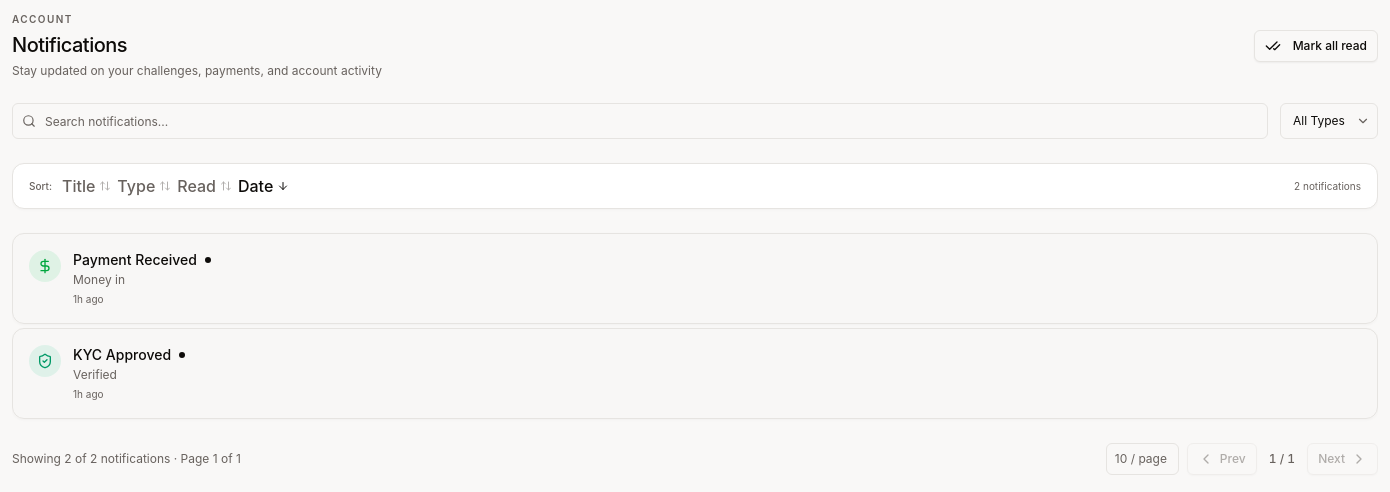
it: Notifications Page › Search › filters by title
Type "payment" into the field with placeholder "Search notifications...". click: (640, 121)
box: [12, 103, 1268, 139]
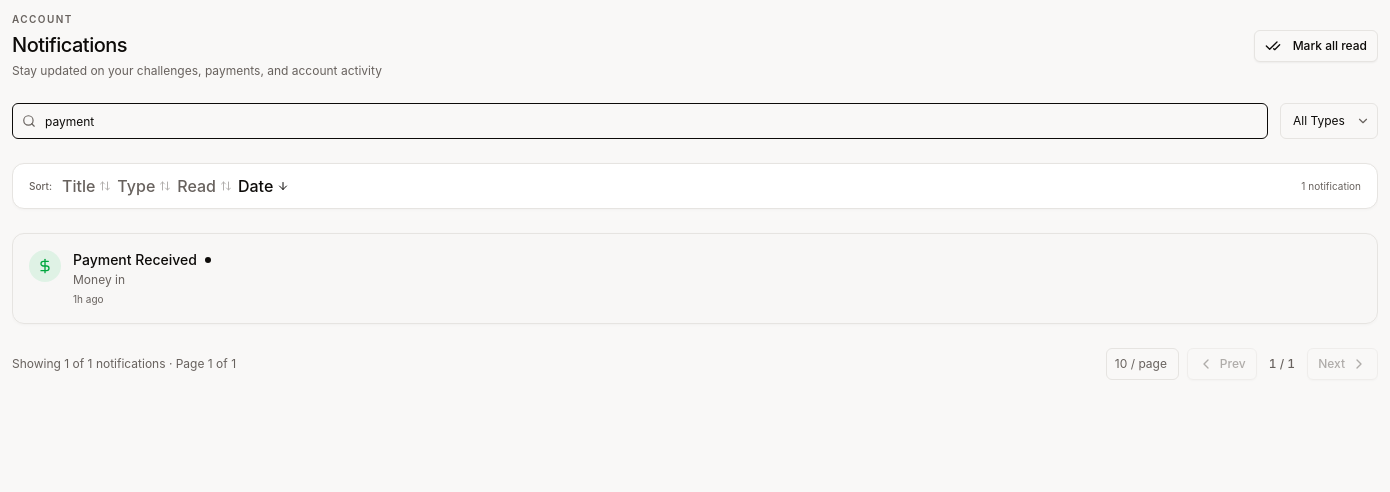
Expected: the text "Payment Received" is shown, [73, 250, 197, 270]
Now the text "KYC Approved" is gone
